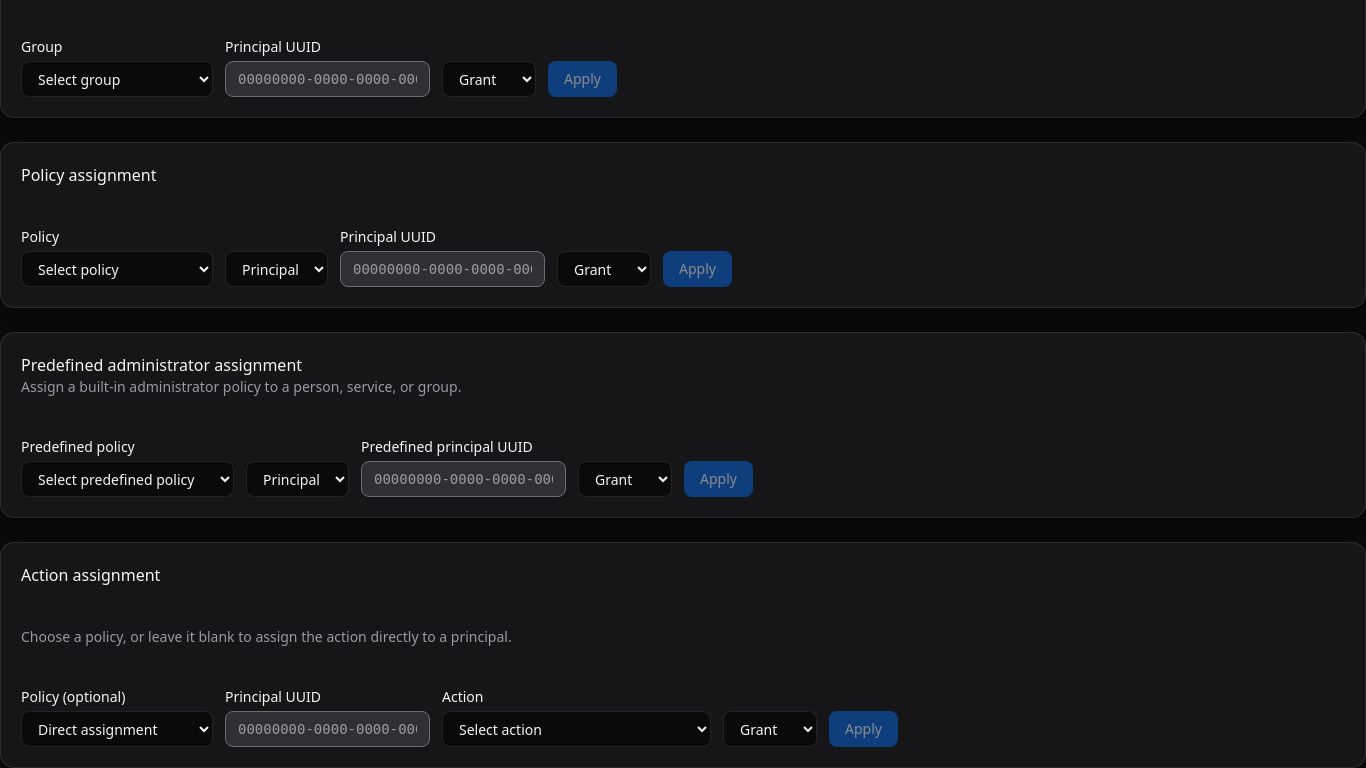
WorkspaceAuthorizationPage › recovers the original Action assignment command after its response is lost (actions)
(page scrolled)
Type "55555555-5555-5555-5555-555555555555" into the field labelled "Principal UUID" below "Policy (optional)" at coordinates (328, 729), box [225, 711, 430, 747]
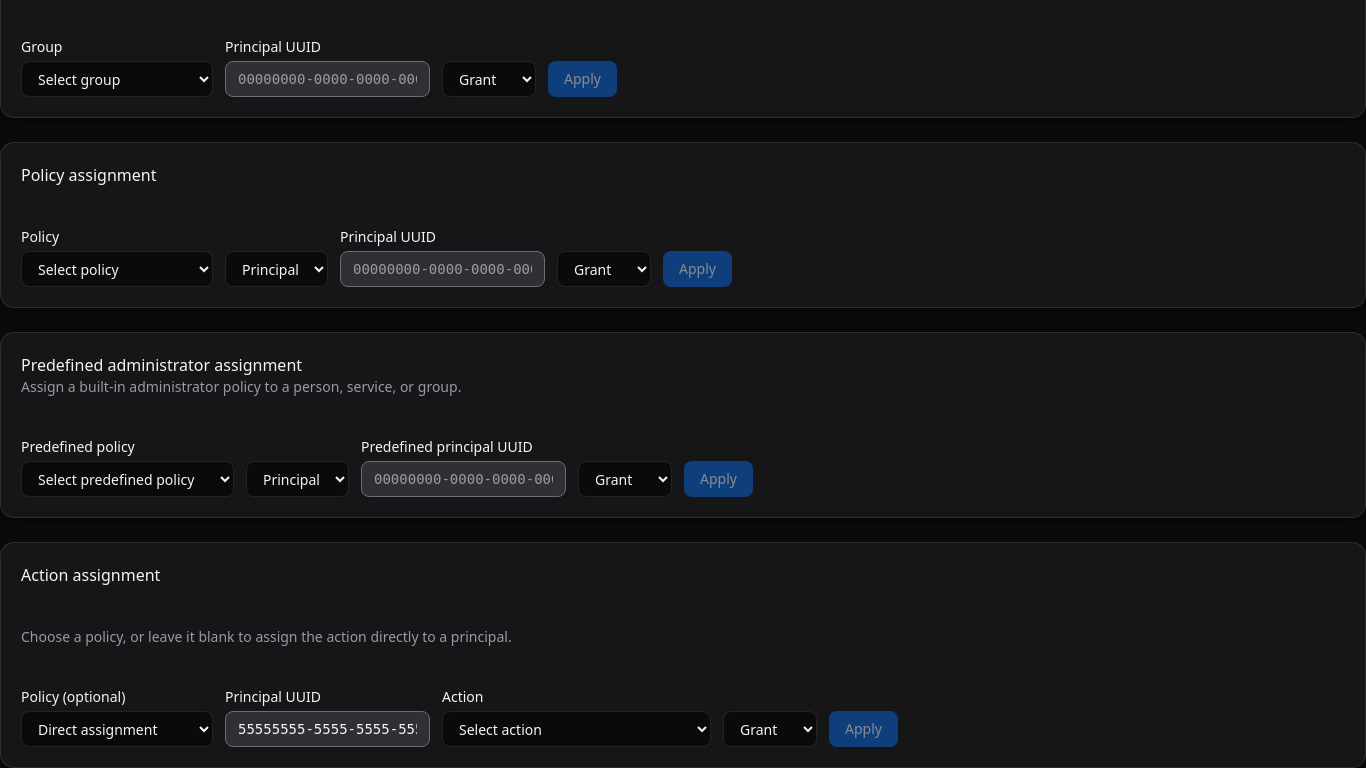
Select "workspace.manage_authorization" in the dropdown labelled "Action" at coordinates (576, 729), box [442, 711, 711, 747]
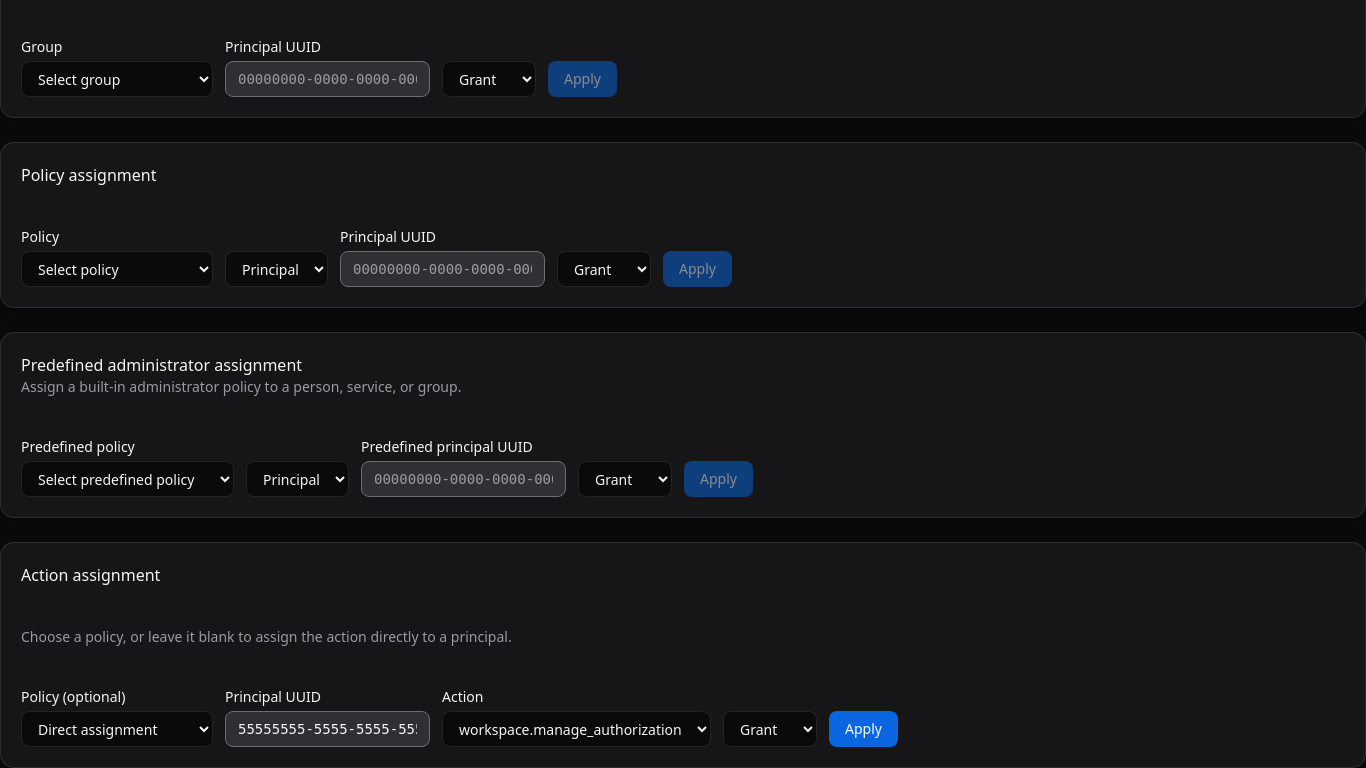
Select "Workspace admins" in the dropdown labelled "Policy (optional)" at coordinates (117, 729), box [21, 711, 213, 747]
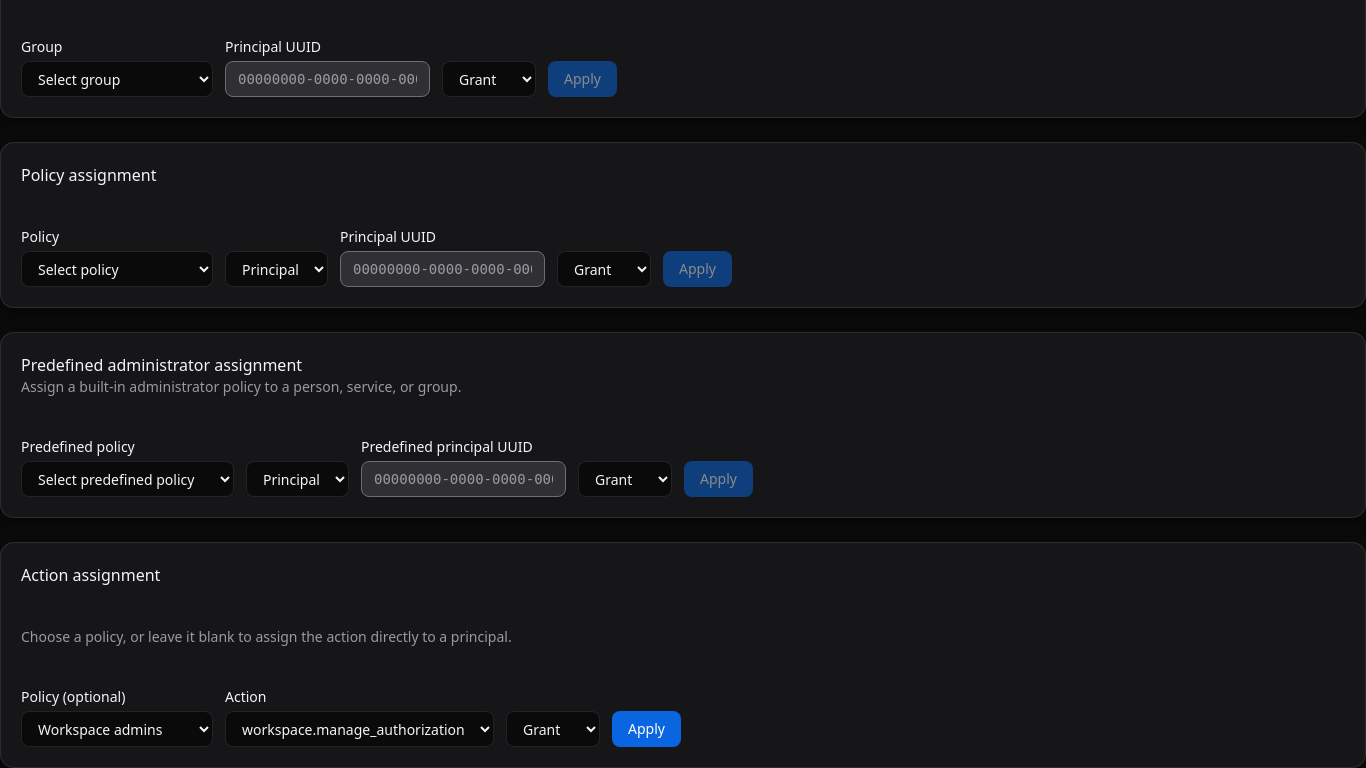
Click the 4th button "Apply" at coordinates (646, 729), box [612, 711, 681, 747]
(page scrolled)
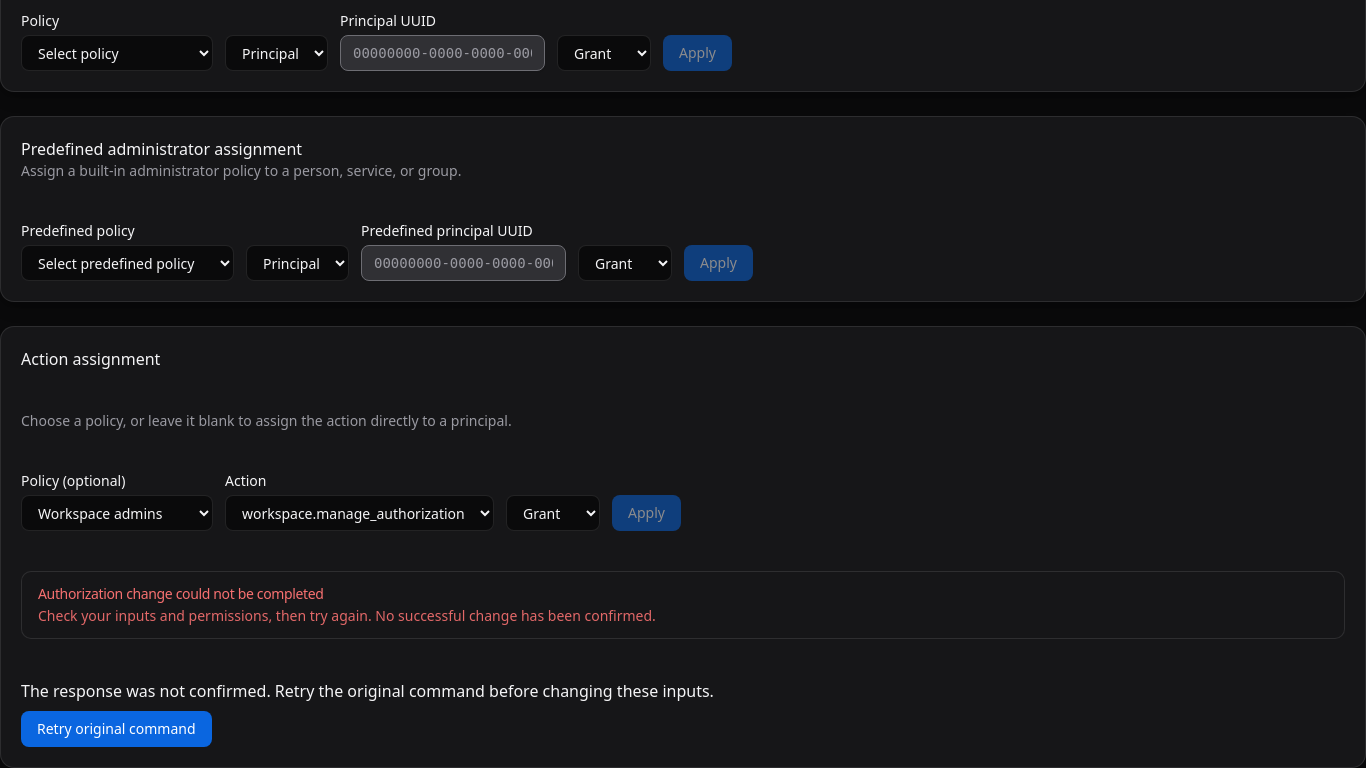
expect the dropdown labelled "Policy (optional)" is disabled: met, box [21, 495, 213, 531]
expect the 3rd button "Apply" is disabled: met, box [612, 495, 681, 531]
Click the button "Retry original command" at coordinates (116, 729), box [21, 711, 212, 747]
(page scrolled)
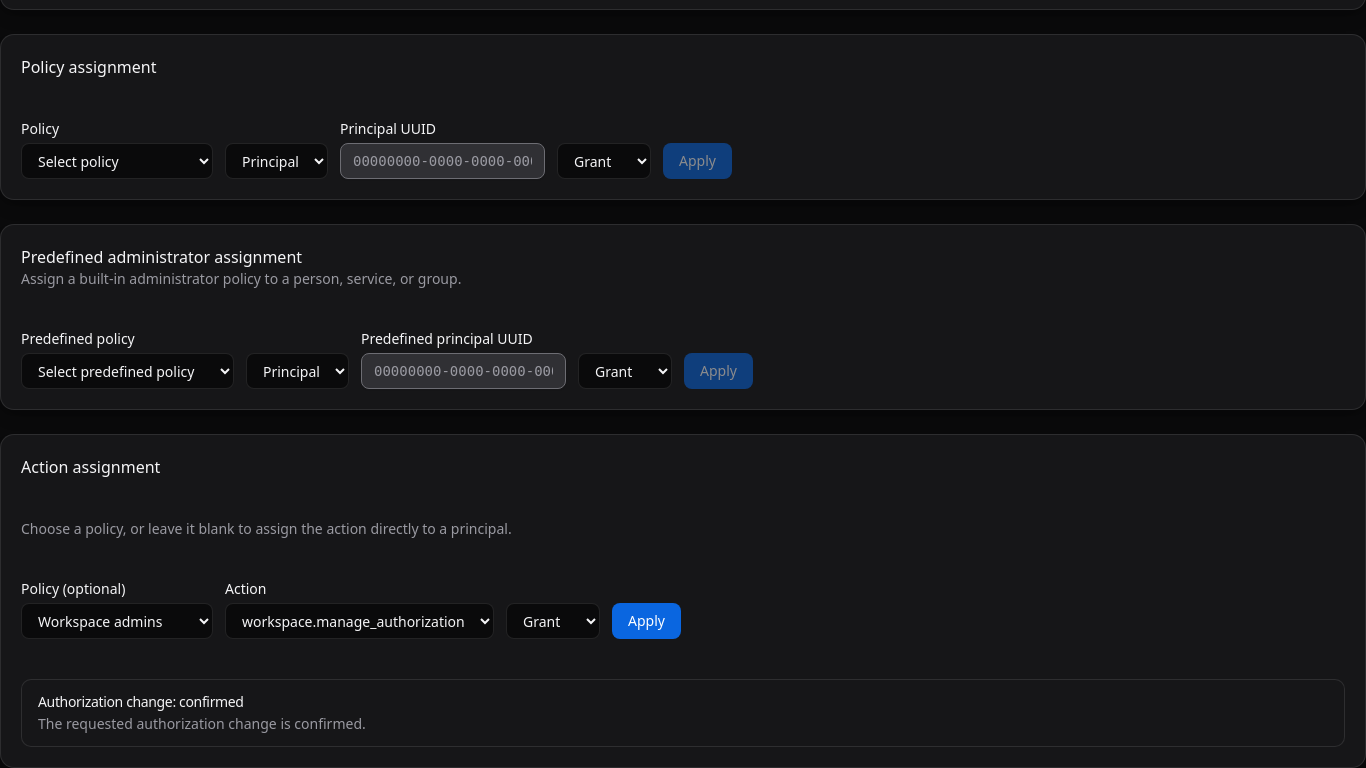
expect the 3rd button "Apply" is enabled: met, box [612, 603, 681, 639]
expect the text "Authorization change: confirmed" is shown: met, box [38, 692, 244, 711]
